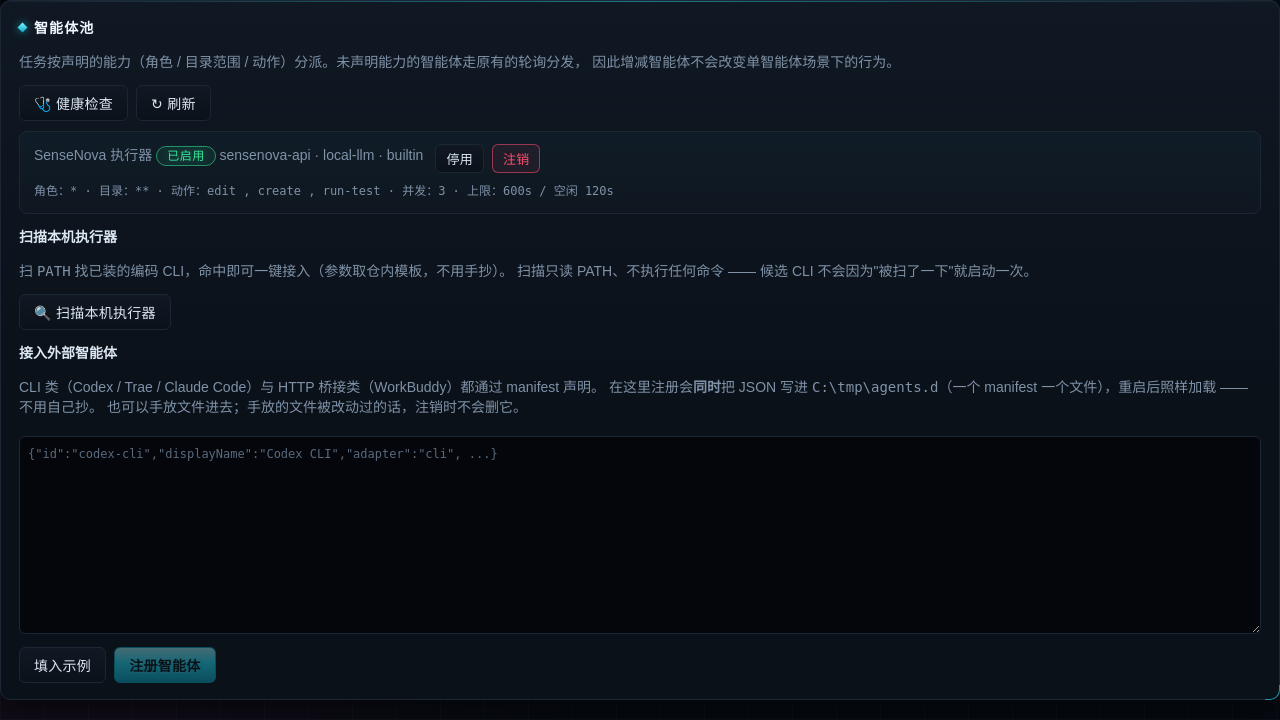
AgentsPanel interactions › shows the unregister failure instead of pretending it worked
What coordinates should you click on to do the following:
click the button "注销"
I would click on:
 (516, 158)
Its box is [492,144,540,173].
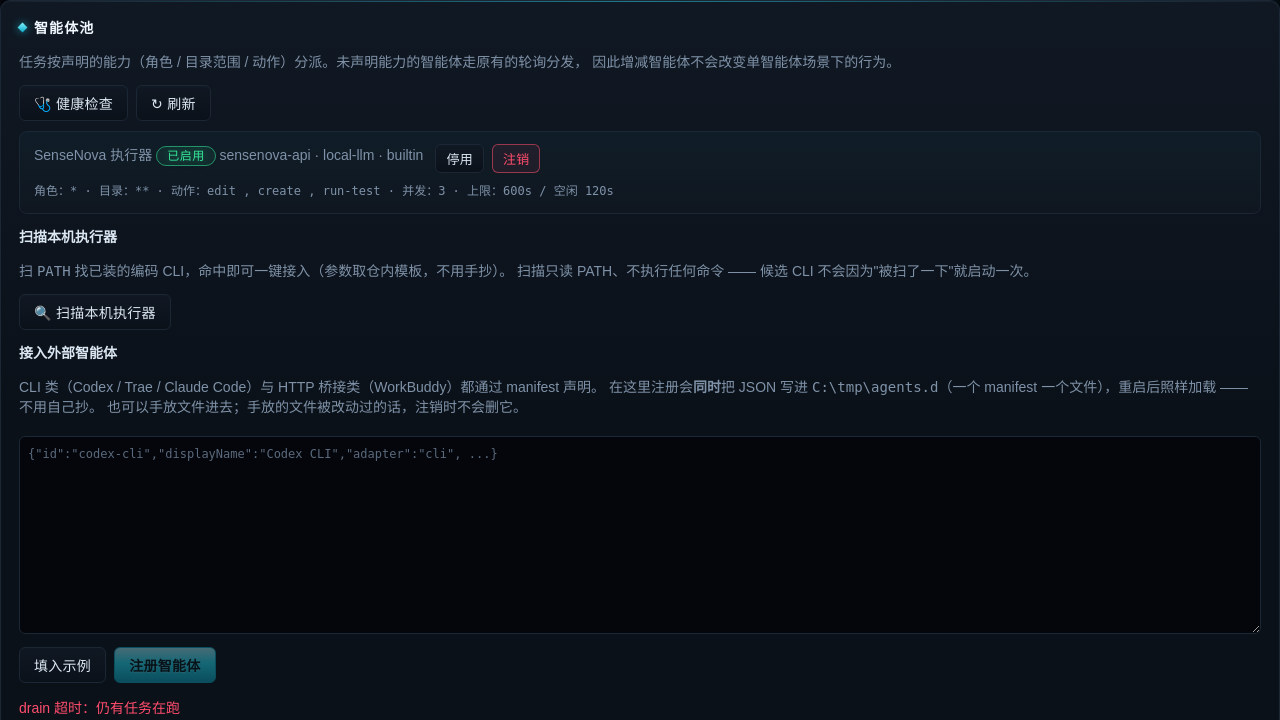
Now the text "drain 超时：仍有任务在跑" is shown, box [19,700,180,716]
